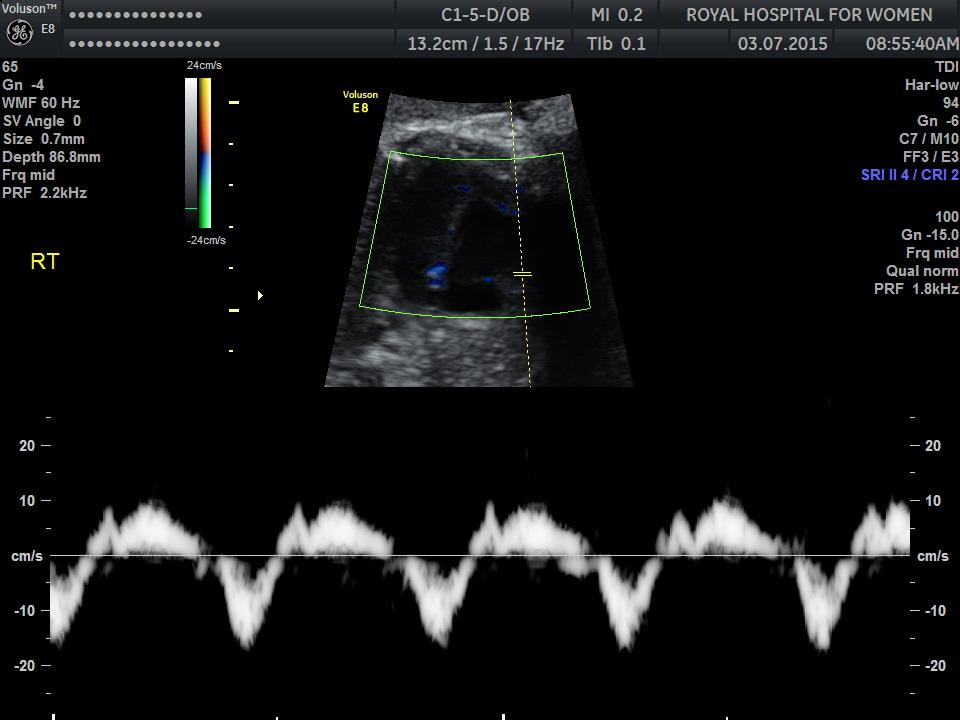Ultrasound-Waves: (51, 407, 909, 720)
